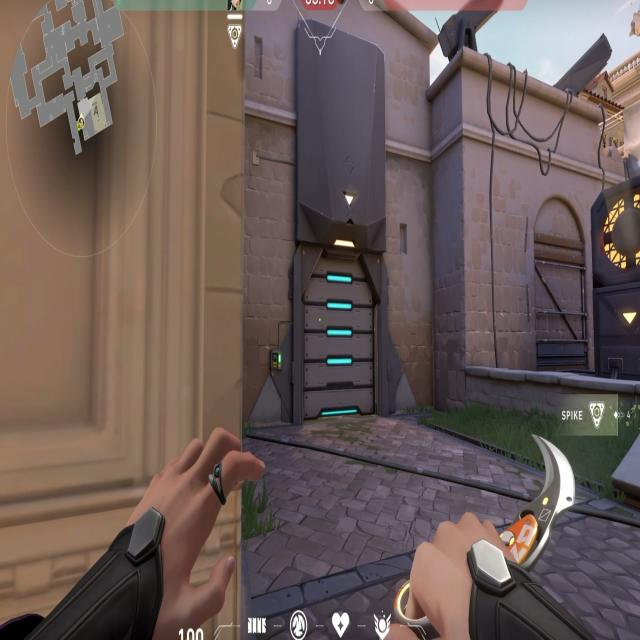A_Door: (295, 239, 388, 422)
